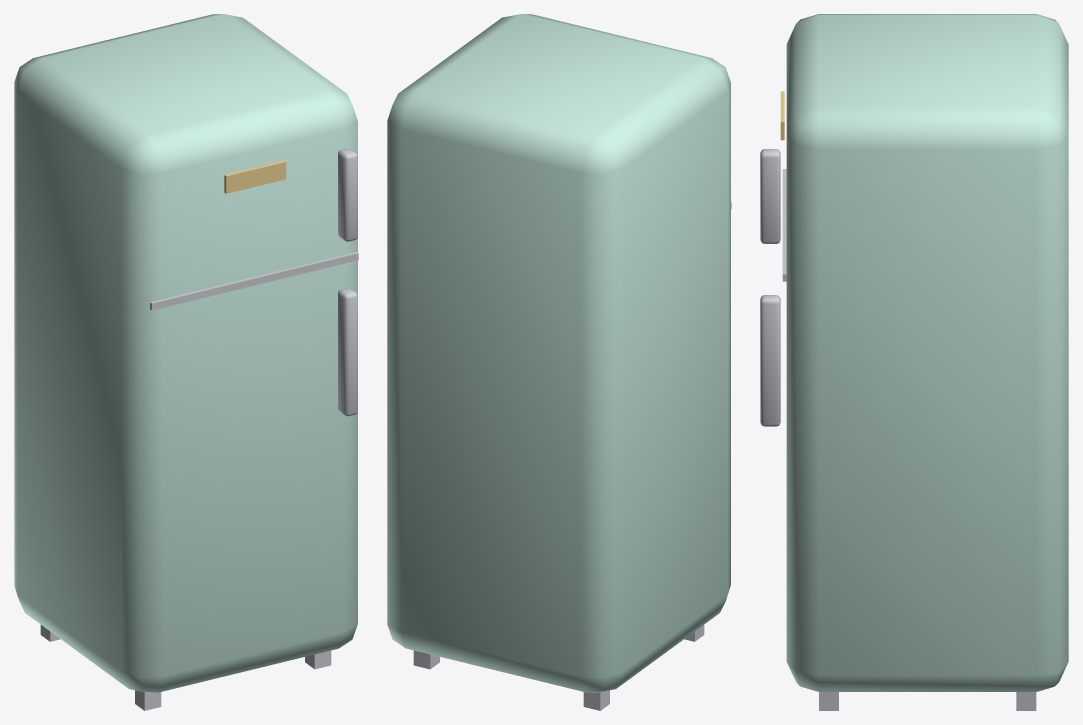
3 renders of one model, left to right at view 1: azimuth 30°, elevation 25°; view 2: azimuth 150°, elevation 25°; view 3: azimuth 270°, elevation 25°, orthographic. The views are drawn at different scales.
Visible parts, largest first — view 1: Decor_fridge_retro; view 2: Decor_fridge_retro; view 3: Decor_fridge_retro.
Part boxes in pixels (x1,y1,x2,y2): Decor_fridge_retro: (14, 14, 358, 710); Decor_fridge_retro: (387, 14, 731, 710); Decor_fridge_retro: (760, 14, 1068, 710).
Bounding box in the file's own units: 0.7 × 1.65 × 0.765.
